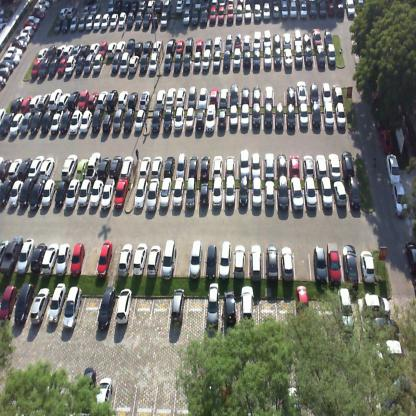car: (382, 373, 410, 414), (61, 289, 86, 326), (0, 234, 22, 276), (28, 288, 51, 324), (46, 290, 69, 326), (336, 285, 354, 331), (96, 288, 118, 324), (95, 374, 114, 415), (16, 236, 36, 274), (354, 240, 374, 277), (114, 289, 136, 322), (364, 317, 400, 337), (168, 291, 189, 325), (370, 340, 404, 361), (13, 289, 36, 320), (145, 240, 165, 275), (324, 242, 342, 280), (202, 293, 221, 329), (361, 292, 391, 314), (41, 239, 60, 273), (68, 240, 87, 274), (240, 283, 254, 328), (81, 367, 96, 408), (76, 176, 94, 210), (144, 177, 162, 211), (53, 241, 72, 273), (1, 283, 17, 321), (295, 284, 310, 324), (340, 241, 356, 278), (392, 183, 408, 220), (88, 174, 105, 208), (278, 244, 295, 278), (384, 151, 401, 185), (310, 242, 326, 278), (30, 241, 48, 273), (160, 241, 177, 274), (223, 289, 237, 329), (203, 241, 218, 278), (285, 386, 304, 415), (170, 176, 186, 210), (188, 242, 204, 276), (263, 243, 279, 277), (344, 176, 362, 206), (234, 241, 249, 277), (65, 176, 81, 209), (113, 177, 129, 210), (156, 178, 172, 211), (132, 240, 148, 273), (217, 242, 233, 275), (100, 178, 116, 210), (28, 178, 44, 210), (96, 244, 113, 274), (248, 240, 263, 274), (316, 177, 332, 208), (18, 178, 34, 209), (314, 148, 330, 178), (118, 242, 134, 272), (378, 125, 394, 155), (133, 177, 146, 212), (73, 154, 91, 179), (341, 149, 357, 177), (221, 383, 235, 415), (84, 153, 101, 179), (330, 179, 345, 208), (197, 179, 211, 210), (288, 180, 304, 207), (122, 106, 137, 134), (288, 147, 302, 177), (301, 148, 315, 178), (235, 179, 249, 209), (262, 178, 276, 208), (276, 179, 290, 209), (41, 179, 55, 209), (9, 178, 23, 208), (90, 106, 106, 132), (96, 154, 112, 180), (28, 154, 44, 180), (328, 148, 342, 177), (209, 180, 223, 209), (53, 180, 67, 209), (276, 148, 289, 179), (304, 178, 317, 209), (122, 155, 138, 180), (101, 107, 115, 135), (112, 107, 126, 135), (332, 101, 347, 127), (186, 152, 201, 178), (62, 154, 77, 180), (40, 155, 55, 181), (0, 110, 15, 136), (109, 155, 125, 179), (248, 150, 262, 177), (184, 179, 196, 210), (133, 108, 147, 134), (149, 154, 163, 180), (40, 109, 54, 135), (138, 155, 153, 179), (263, 147, 275, 177), (249, 179, 261, 209), (406, 241, 416, 277), (9, 112, 24, 136), (16, 157, 32, 179), (150, 106, 163, 133), (164, 152, 178, 177), (199, 152, 213, 177), (210, 152, 224, 177), (224, 179, 236, 208), (69, 110, 82, 136), (174, 153, 188, 177), (224, 150, 236, 178), (50, 108, 62, 136), (194, 107, 206, 133), (79, 110, 91, 136), (49, 86, 62, 110), (162, 107, 174, 132), (238, 105, 250, 130), (237, 152, 249, 177), (1, 179, 11, 208), (106, 88, 118, 112), (311, 102, 322, 128), (321, 104, 334, 126), (8, 157, 21, 179), (309, 79, 320, 105), (297, 76, 308, 102), (229, 81, 240, 107), (78, 86, 89, 112), (59, 109, 70, 135), (262, 105, 274, 128), (274, 105, 286, 128), (298, 105, 310, 128), (0, 157, 12, 180), (20, 111, 32, 134), (184, 106, 194, 133), (216, 107, 227, 131), (58, 90, 70, 112), (29, 90, 41, 112), (174, 108, 184, 134), (262, 45, 272, 71), (331, 81, 343, 102), (38, 90, 50, 111), (10, 94, 24, 112), (252, 105, 262, 130), (187, 83, 197, 108), (150, 48, 160, 73), (205, 108, 216, 130), (228, 106, 239, 128), (320, 81, 331, 103), (88, 89, 99, 111), (264, 82, 274, 106), (198, 84, 208, 108), (96, 90, 108, 110), (119, 50, 129, 74), (286, 105, 297, 126), (139, 89, 150, 110), (304, 45, 314, 68), (293, 42, 302, 67), (252, 82, 262, 104), (166, 85, 176, 107), (127, 89, 138, 109), (117, 88, 127, 110), (31, 112, 41, 134), (326, 44, 336, 66), (316, 44, 326, 66), (272, 46, 282, 68), (252, 26, 262, 48), (251, 48, 261, 70), (202, 50, 212, 72), (31, 57, 42, 77), (139, 53, 149, 75), (234, 3, 244, 25), (10, 40, 28, 52), (286, 83, 296, 104), (68, 89, 78, 110), (94, 54, 104, 75), (2, 53, 21, 64), (209, 84, 219, 104), (223, 32, 233, 52), (212, 50, 222, 70), (166, 36, 176, 56), (48, 58, 58, 78), (57, 56, 67, 76), (65, 56, 75, 76), (74, 56, 84, 76), (128, 54, 138, 74), (142, 9, 152, 29), (241, 83, 250, 105), (176, 86, 185, 108), (156, 86, 165, 108), (283, 47, 292, 69), (163, 53, 172, 75), (63, 42, 74, 60), (84, 54, 93, 76), (199, 5, 208, 27), (216, 4, 225, 26), (193, 50, 201, 74), (126, 36, 136, 55), (111, 54, 121, 73), (69, 15, 79, 34), (226, 3, 235, 24), (183, 51, 191, 74), (173, 52, 181, 75), (323, 27, 332, 47), (312, 26, 322, 44), (282, 29, 292, 47), (232, 50, 241, 70), (89, 38, 99, 56), (46, 44, 56, 62), (39, 60, 49, 78), (132, 10, 142, 28), (150, 10, 160, 28), (182, 8, 192, 26), (71, 42, 82, 58), (55, 44, 66, 60), (7, 46, 23, 57), (21, 94, 30, 113), (243, 31, 252, 50), (253, 3, 262, 22), (318, 0, 327, 19), (346, 1, 355, 20), (292, 26, 302, 43), (84, 13, 94, 30), (220, 86, 228, 107), (1, 60, 15, 72), (24, 19, 38, 31), (58, 5, 69, 20), (233, 32, 242, 50), (109, 12, 118, 30), (117, 11, 126, 29), (223, 49, 230, 72), (242, 52, 250, 72), (38, 44, 48, 60), (53, 18, 63, 34), (77, 15, 87, 31), (92, 14, 102, 30), (27, 13, 41, 24), (107, 39, 115, 58), (126, 10, 134, 29), (191, 7, 199, 26), (208, 5, 216, 24), (244, 4, 252, 23), (336, 1, 344, 20), (16, 33, 31, 43), (175, 0, 185, 15), (282, 1, 289, 22), (272, 29, 280, 47), (264, 28, 272, 46), (214, 33, 222, 51), (144, 38, 153, 54), (19, 26, 35, 35), (101, 12, 109, 30), (160, 10, 168, 28), (263, 3, 271, 21), (355, 0, 366, 13), (80, 44, 90, 58), (30, 9, 44, 19), (176, 36, 184, 53), (99, 39, 107, 56), (290, 2, 298, 19), (154, 38, 163, 53), (299, 2, 307, 18), (327, 1, 335, 17), (61, 19, 70, 33), (309, 1, 316, 19), (303, 31, 311, 46), (186, 34, 192, 54), (0, 68, 10, 80), (34, 3, 46, 13), (272, 5, 280, 20), (196, 35, 203, 51), (135, 38, 142, 54), (146, 0, 156, 11), (107, 0, 116, 12), (130, 0, 139, 12), (138, 0, 147, 12), (116, 38, 124, 51), (68, 6, 76, 19), (115, 0, 124, 11), (205, 36, 212, 50), (38, 0, 50, 8), (123, 0, 131, 12), (155, 0, 163, 12), (82, 5, 90, 16), (91, 3, 99, 14), (202, 0, 210, 9), (164, 0, 171, 10), (194, 0, 201, 9), (185, 0, 192, 8)
